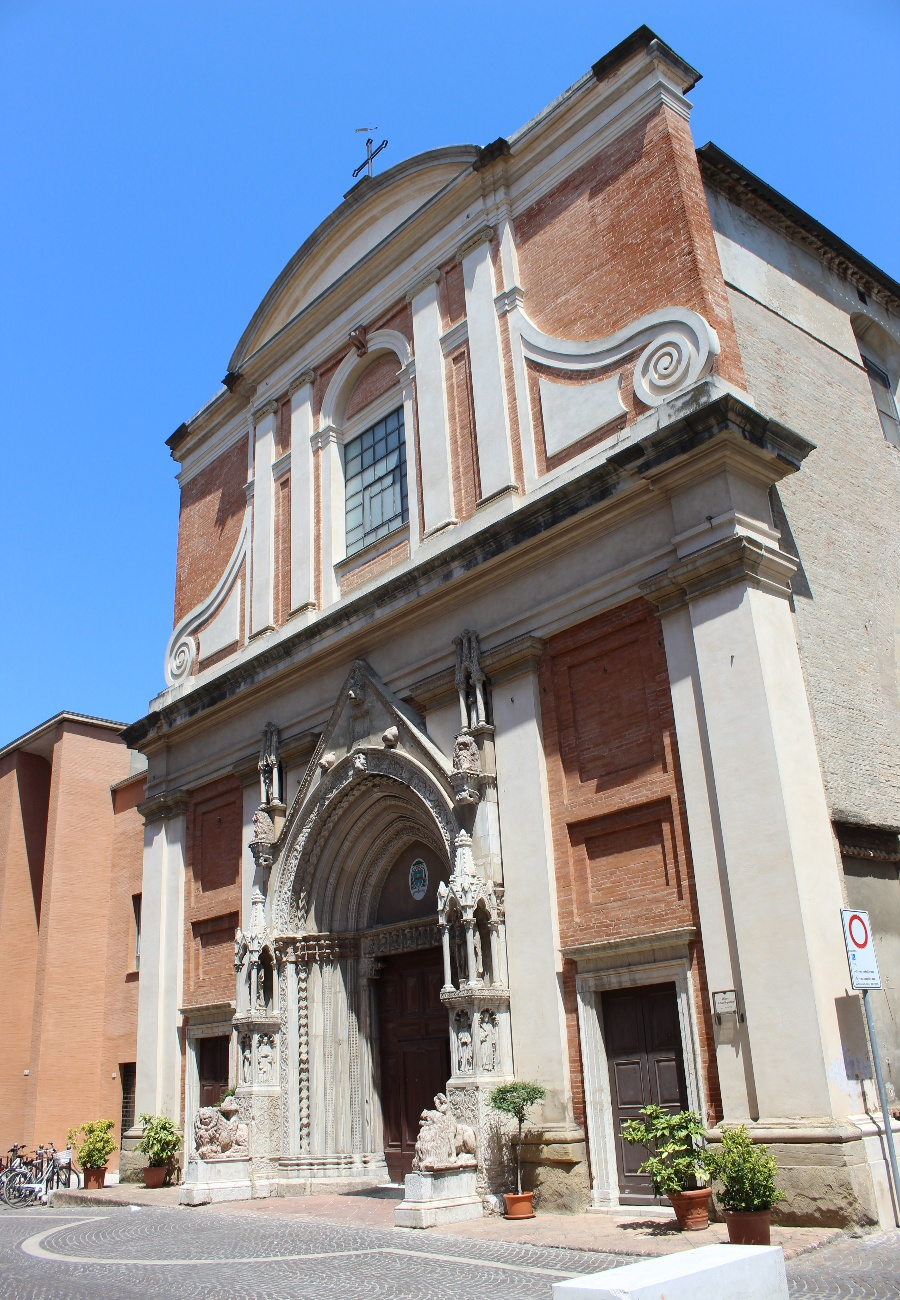Chiesa San Agostino: (112, 25, 898, 1210)
